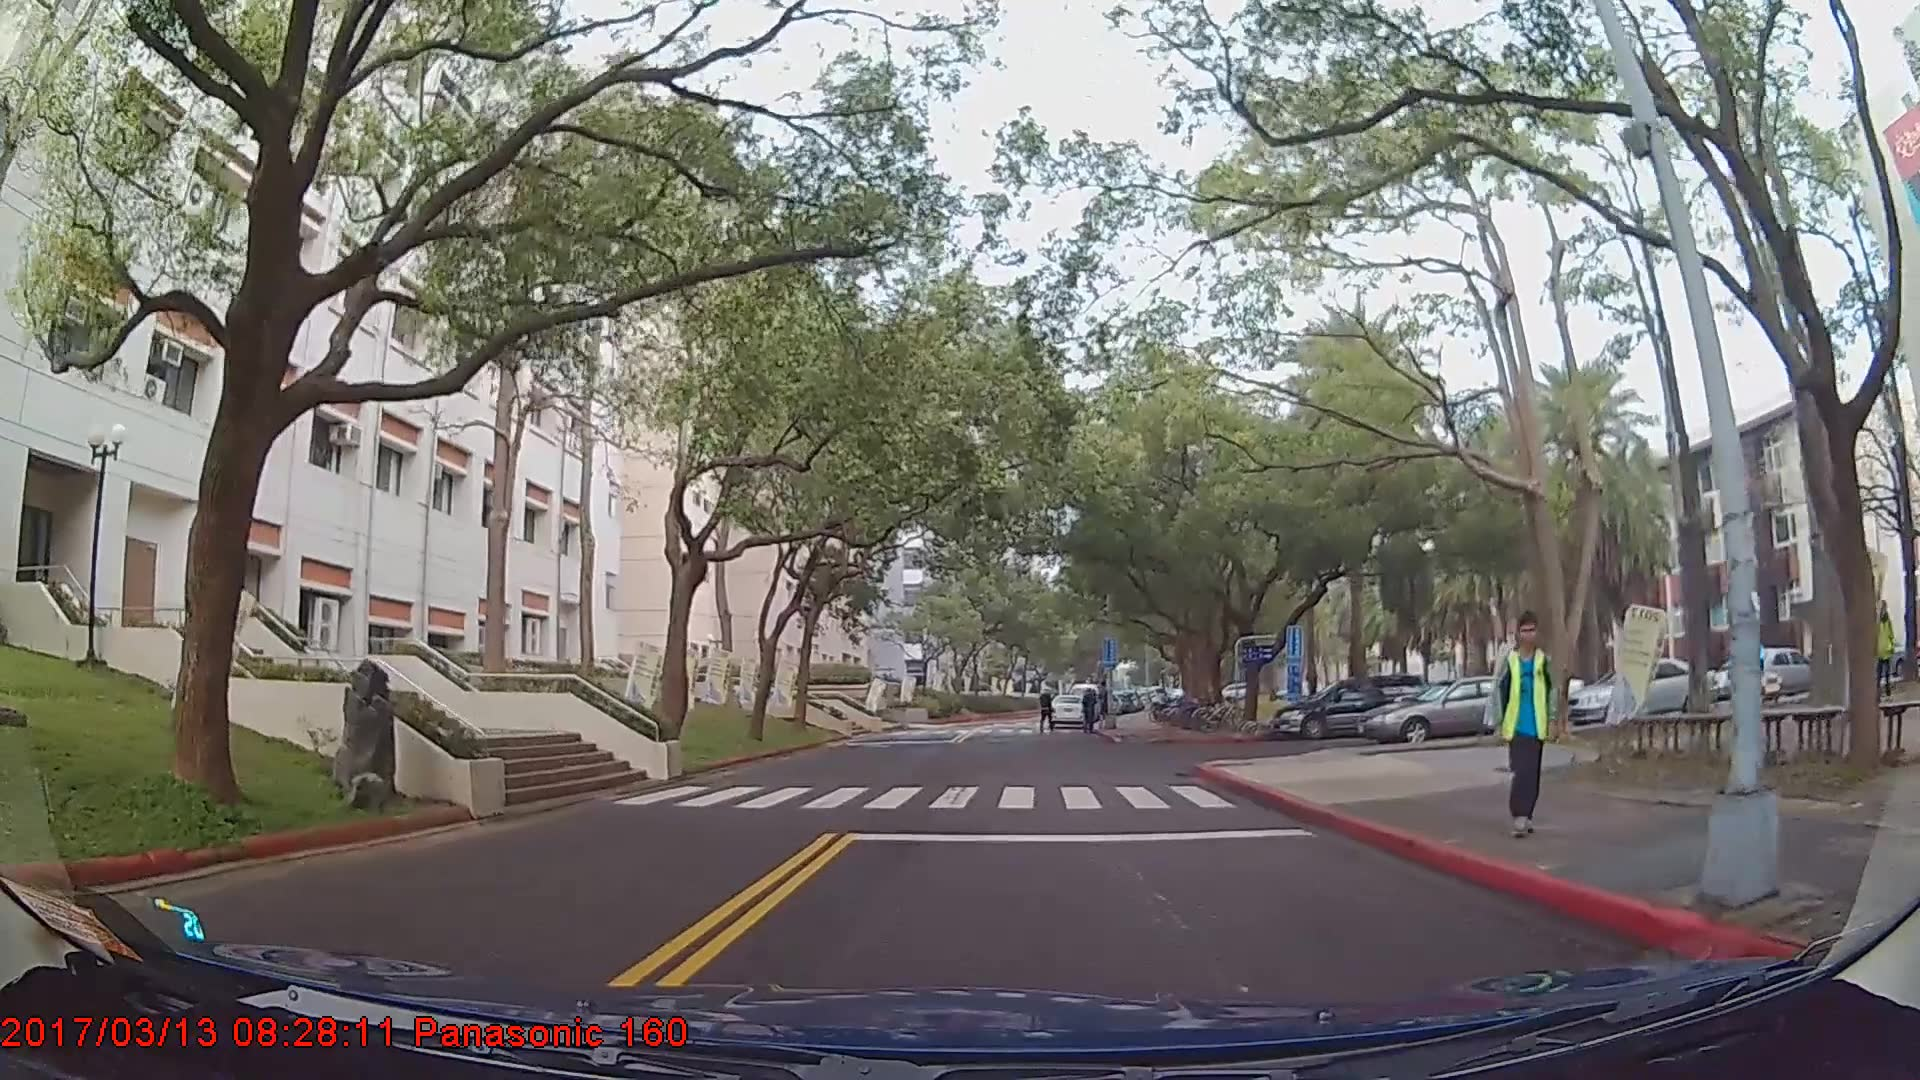pedestrian: (1487, 609, 1559, 835), (1741, 621, 1773, 713), (1875, 600, 1896, 698), (1038, 686, 1058, 735), (1080, 688, 1100, 735)
vehicle: (1359, 676, 1552, 746), (1568, 658, 1719, 727), (1272, 675, 1431, 738), (1721, 644, 1820, 704), (1046, 694, 1089, 731)
